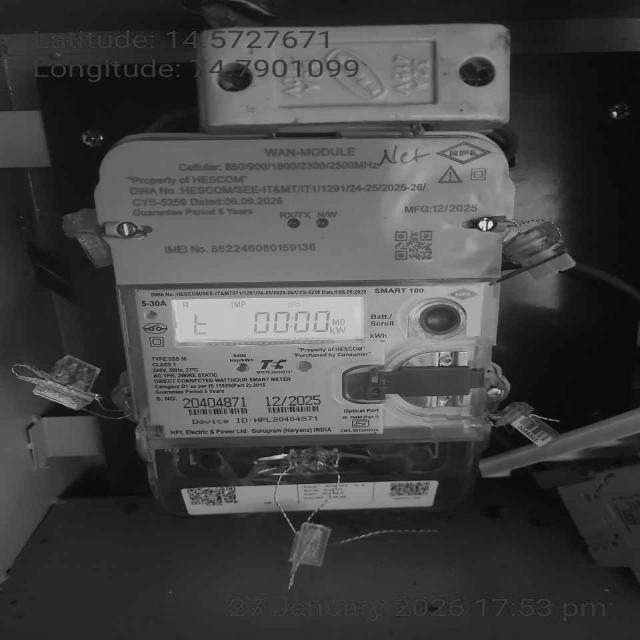meter: (98, 138, 511, 439)
